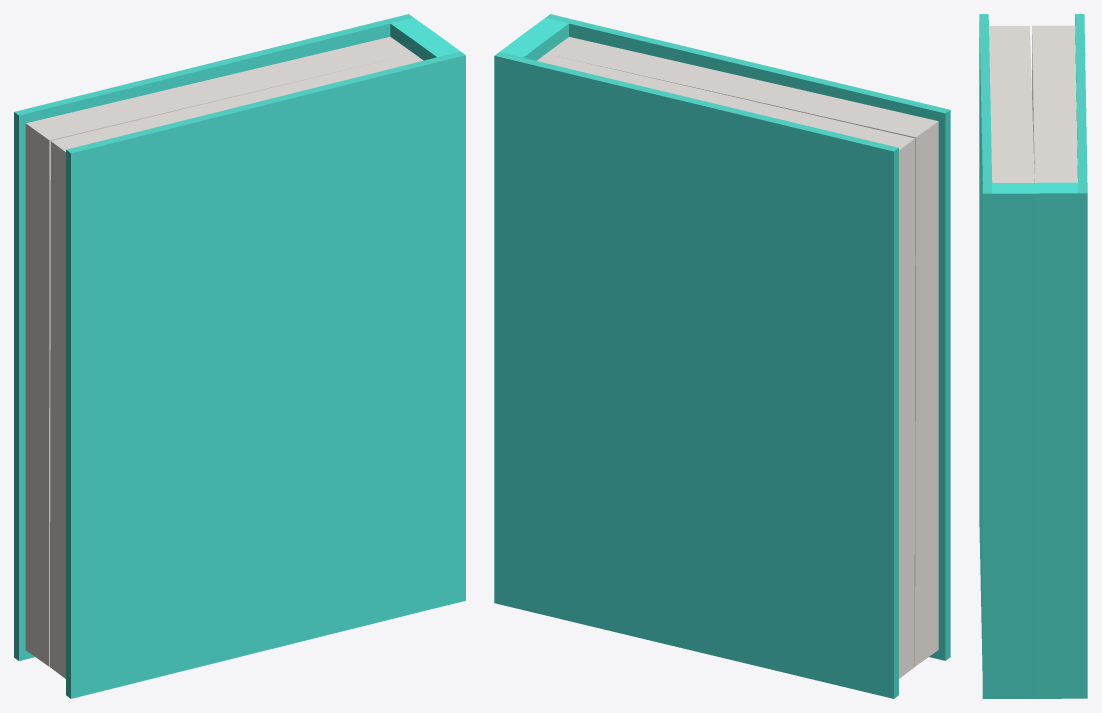
The model's file is book 3.fbx.
3 views of the same model, side by side, from view 1: azimuth 30°, elevation 25°; view 2: azimuth 150°, elevation 25°; view 3: azimuth 270°, elevation 25° (orthographic). The views are drawn at different scales.
Parts seen in each view (by area): view 1: book 2; view 2: book 2; view 3: book 2.
Part boxes in pixels (x1,y1,x2,y2): book 2: [14, 14, 465, 698]; book 2: [494, 14, 950, 698]; book 2: [979, 14, 1087, 698].
Bounding box in the file's own units: 155 × 204 × 39.63.
1 material, 1 textured.
